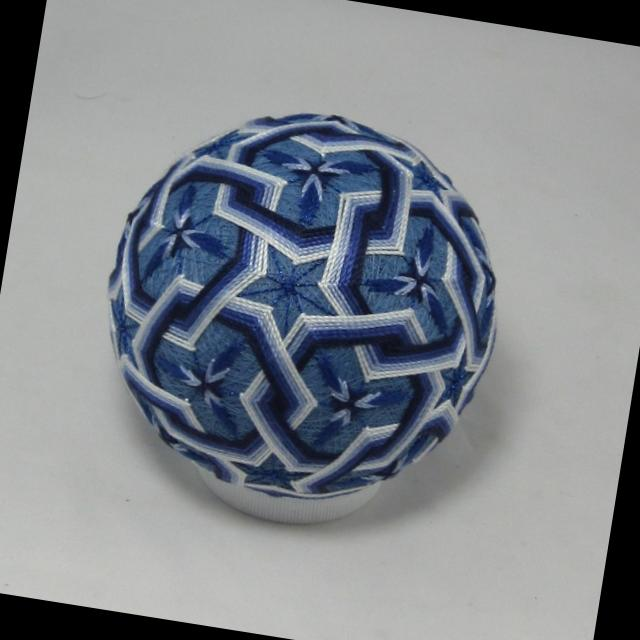Ball: (81, 85, 528, 526)
